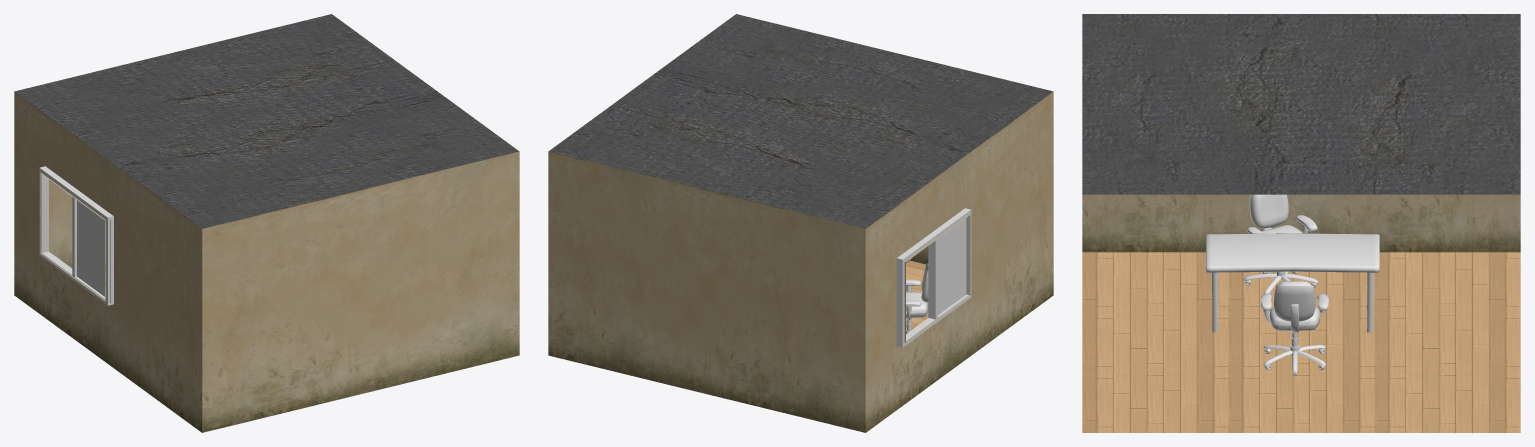
File: Office.fbx
The picture shows the model from 3 angles, left to right: view 1: azimuth 30°, elevation 25°; view 2: azimuth 150°, elevation 25°; view 3: azimuth 270°, elevation 25°; orthographic projection. The views are drawn at different scales.
Parts seen in each view (by area): view 1: room, window; view 2: room, window, Cube.029; view 3: room, Table, Cube.002, Cube.029.
Boxes of the visible parts, x1,y1,x2,y2 form: room: [14, 14, 519, 432]; window: [39, 166, 113, 305]; room: [548, 14, 1053, 432]; window: [896, 208, 971, 347]; Cube.029: [906, 263, 928, 333]; room: [1082, 14, 1520, 432]; Table: [1206, 233, 1379, 332]; Cube.002: [1260, 281, 1328, 375]; Cube.029: [1244, 194, 1318, 294].
Size of what is drawn, in the model's own units: 734 by 442 by 736.
